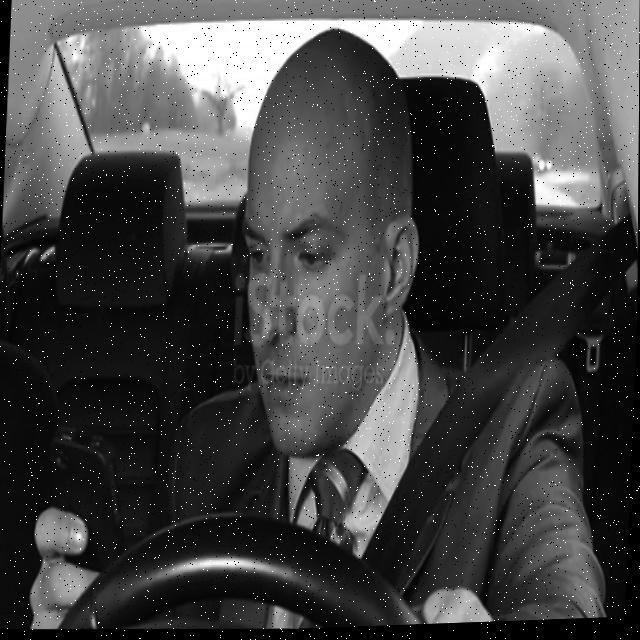PhoneCall: (44, 428, 129, 587)
